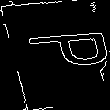P_E: (4, 33, 106, 77)
